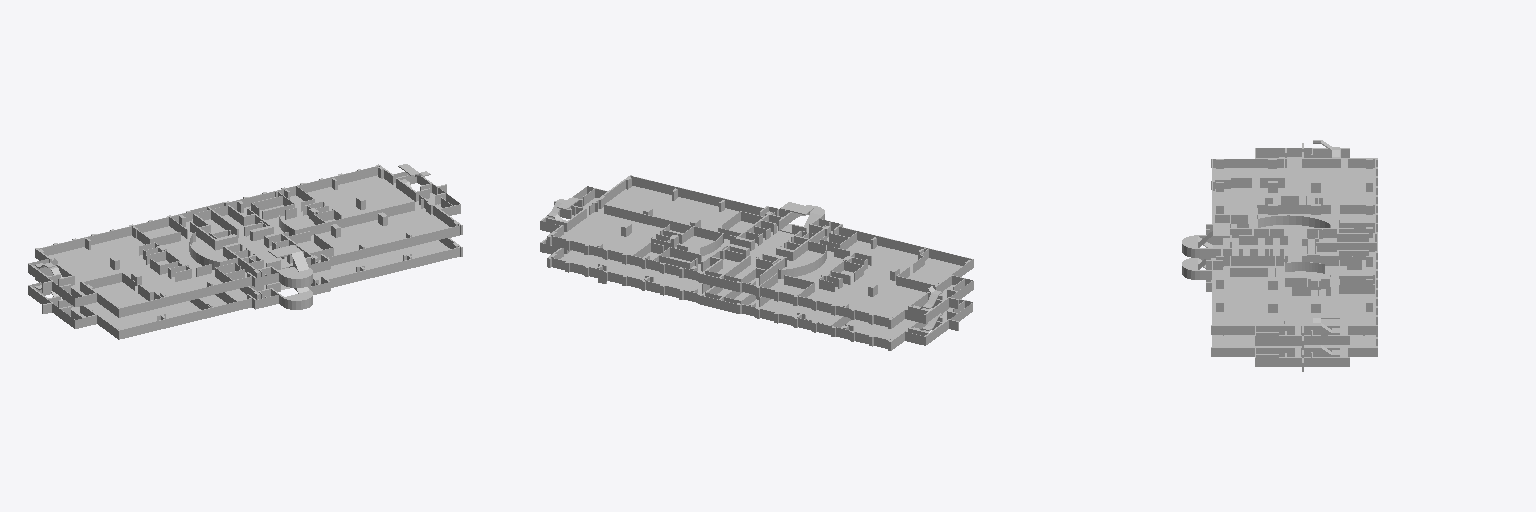
File: sexto_consertado_escada_central.obj
The picture shows the model from 3 angles: view 1: azimuth 30°, elevation 25°; view 2: azimuth 150°, elevation 25°; view 3: azimuth 270°, elevation 25°; orthographic projection.
Size of the model in its own units: 64.28 by 8.05 by 27.01.